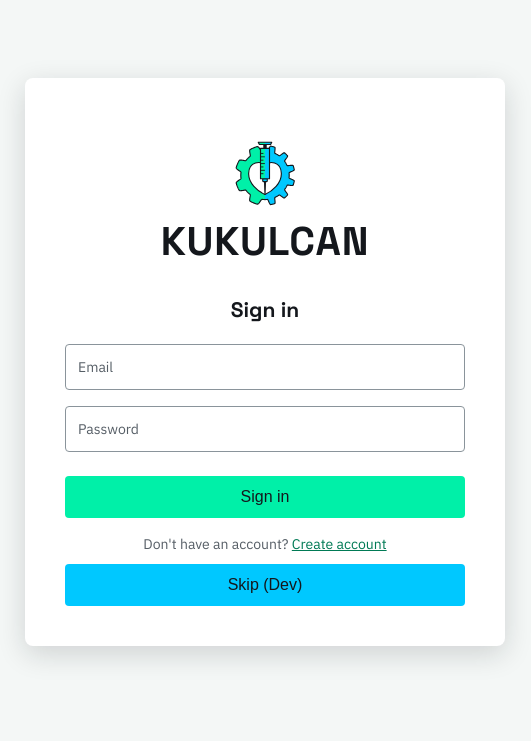
Test: Login › negative › a rate-limited resend shows the wait message
Type "a@b.c" into the field with placeholder "Email" at (265, 367), box [65,344,465,390]
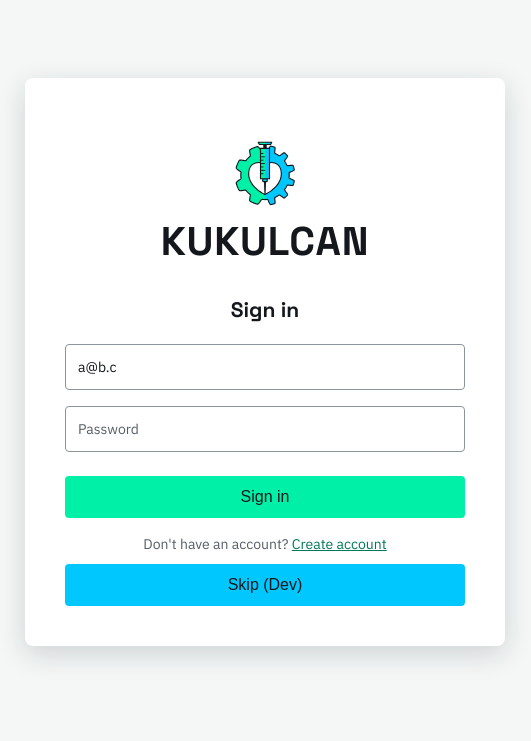
Type "pw" into the password field with placeholder "Password" at (265, 429), box [65,406,465,452]
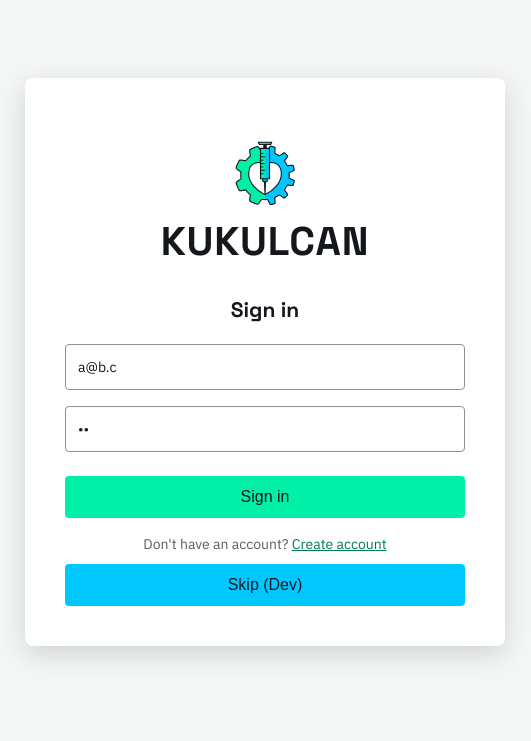
Click the button "Sign in" at (265, 497), box [65,476,465,518]
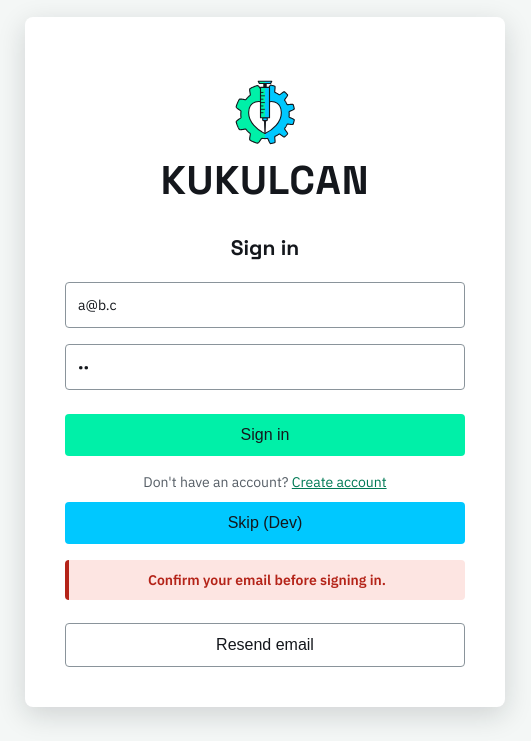
Click the button "Resend email" at (265, 645), box [65,623,465,667]
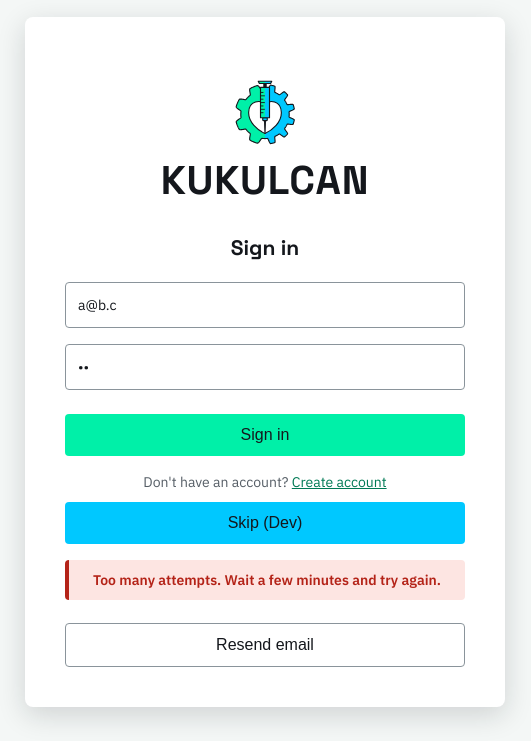
expect the text "Too many attempts. Wait a few minutes and try again." is shown: met, box [65,560,465,600]
